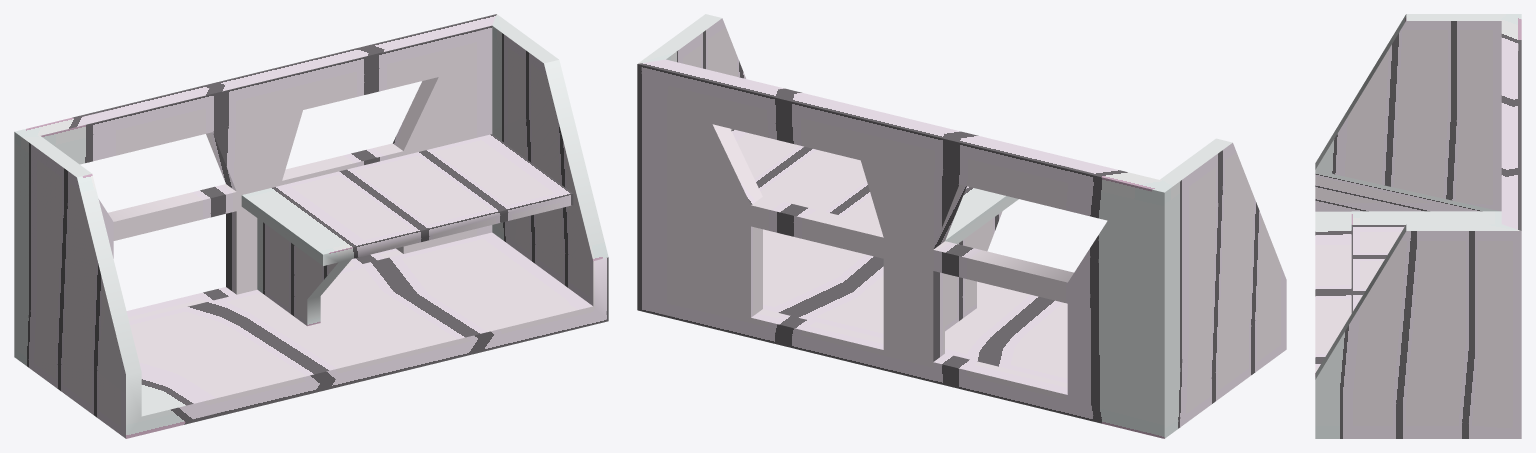
3 renders of one model, left to right at view 1: azimuth 30°, elevation 25°; view 2: azimuth 150°, elevation 25°; view 3: azimuth 270°, elevation 25°, orthographic. The views are drawn at different scales.
Parts seen in each view (by area): view 1: Joint_0_Object_1, Joint_0_Object_0; view 2: Joint_0_Object_1, Joint_0_Object_0; view 3: Joint_0_Object_1, Joint_0_Object_0.
Boxes of the visible parts, x1,y1,x2,y2 form: Joint_0_Object_1: (14,14,608,438); Joint_0_Object_0: (241,134,573,326); Joint_0_Object_1: (637,14,1286,438); Joint_0_Object_0: (731,129,1018,331); Joint_0_Object_1: (1315,14,1521,438); Joint_0_Object_0: (1351,211,1501,313).
Size of the model in its own units: 1510 by 674 by 606.
